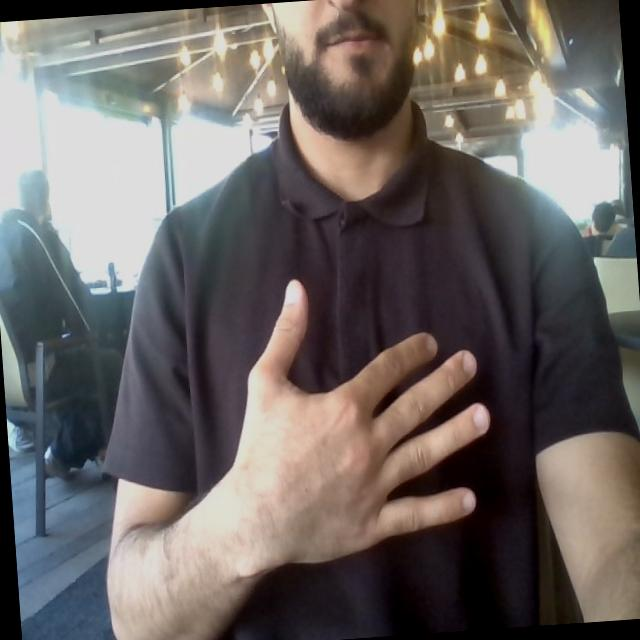Hand: (229, 281, 489, 567)
